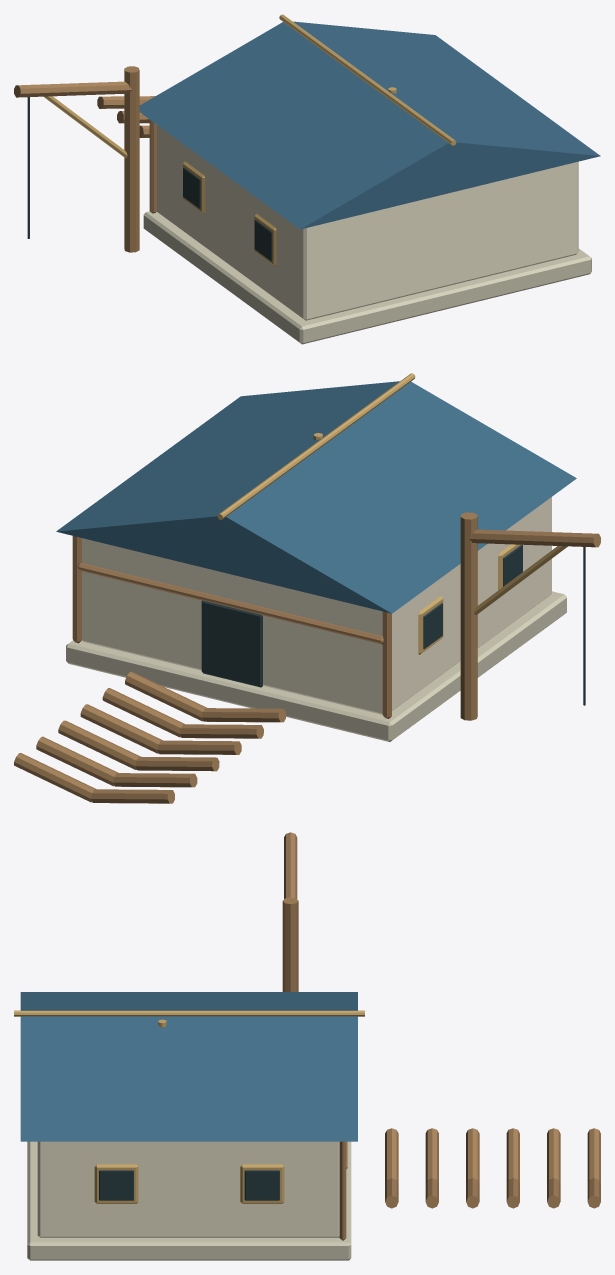
Rendered from level_01.glb.
3 views of the same model, one above another, from view 1: azimuth 30°, elevation 25°; view 2: azimuth 150°, elevation 25°; view 3: azimuth 270°, elevation 25° (orthographic). The views are drawn at different scales.
Visible parts, largest first — view 1: shipyard — level 01; view 2: shipyard — level 01; view 3: shipyard — level 01.
Part boxes in pixels (box(x1,y1,x2,y2)): shipyard — level 01: box(14, 14, 600, 344); shipyard — level 01: box(14, 373, 600, 803); shipyard — level 01: box(14, 832, 600, 1260).
Bounding box in the file's own units: 7.89 × 3.42 × 8.7.
